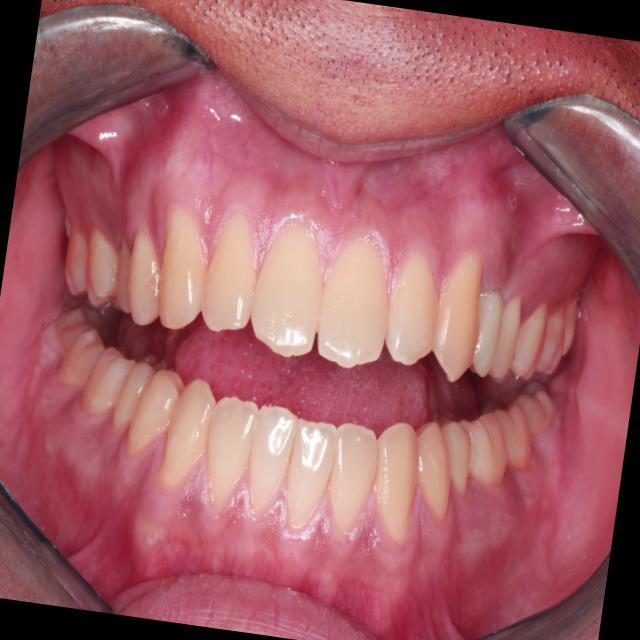tooth: (233, 192, 347, 376), (303, 221, 409, 387), (183, 197, 284, 362), (189, 380, 276, 548), (309, 401, 394, 558), (370, 236, 459, 385), (268, 401, 349, 555), (143, 190, 225, 341), (418, 238, 494, 390), (359, 414, 435, 563), (229, 391, 306, 536), (151, 367, 220, 505), (399, 417, 469, 537), (119, 355, 186, 468), (113, 218, 177, 336), (424, 410, 491, 520), (449, 399, 520, 502), (49, 304, 113, 413), (500, 279, 559, 393), (69, 216, 130, 322), (480, 397, 547, 492), (101, 348, 160, 455), (461, 265, 513, 385), (47, 202, 102, 310), (73, 329, 133, 428), (483, 284, 530, 395), (36, 291, 98, 372), (101, 230, 149, 331), (531, 290, 580, 383), (501, 382, 568, 447), (549, 288, 590, 369)
